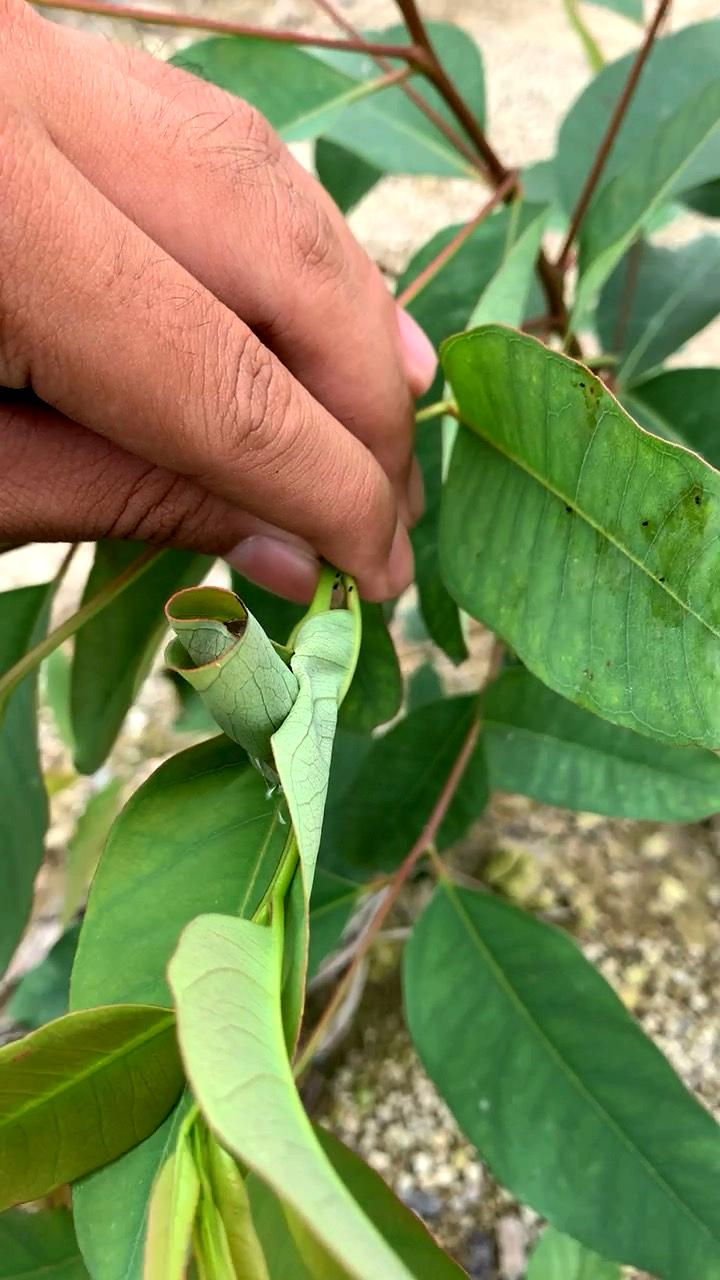Leaf Roller - Leaf: (135, 563, 363, 836)
